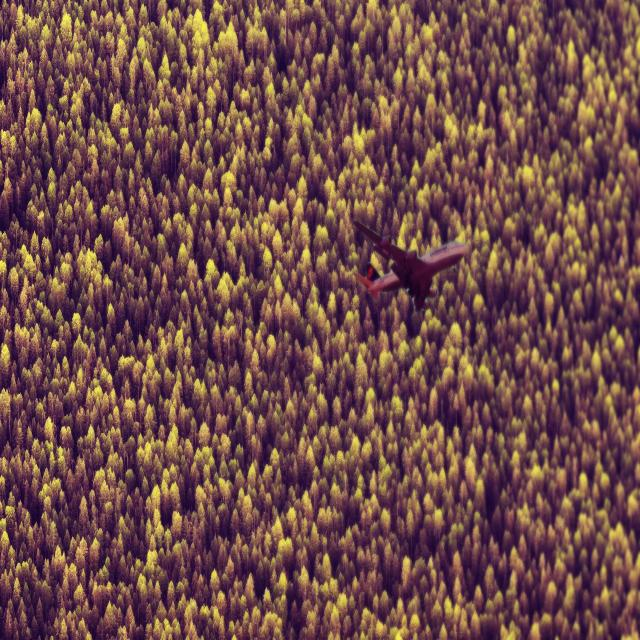airplane: (352, 218, 468, 314)
